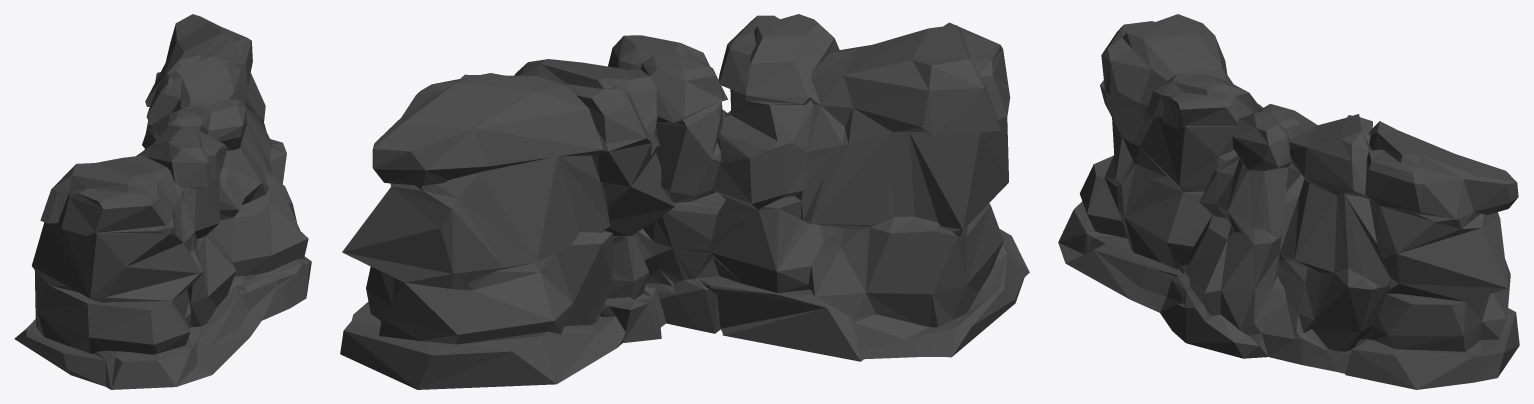
File: rock__rockform_corner_soft_dark.glb
3 views of the same model, side by side, from view 1: azimuth 30°, elevation 25°; view 2: azimuth 150°, elevation 25°; view 3: azimuth 270°, elevation 25° (orthographic). The views are drawn at different scales.
Parts seen in each view (by area): view 1: rockform.corner.soft.dark; view 2: rockform.corner.soft.dark; view 3: rockform.corner.soft.dark.
Boxes of the visible parts, bbox=[...] form: rockform.corner.soft.dark: bbox=[14, 14, 311, 389]; rockform.corner.soft.dark: bbox=[340, 14, 1029, 389]; rockform.corner.soft.dark: bbox=[1058, 14, 1519, 389].
Bounding box in the file's own units: 30.36 × 15.37 × 31.39.
Materials: 1 (1 with a texture image).
